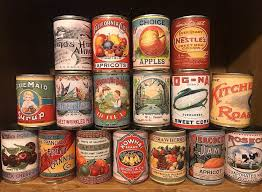can: (3, 14, 262, 192)
